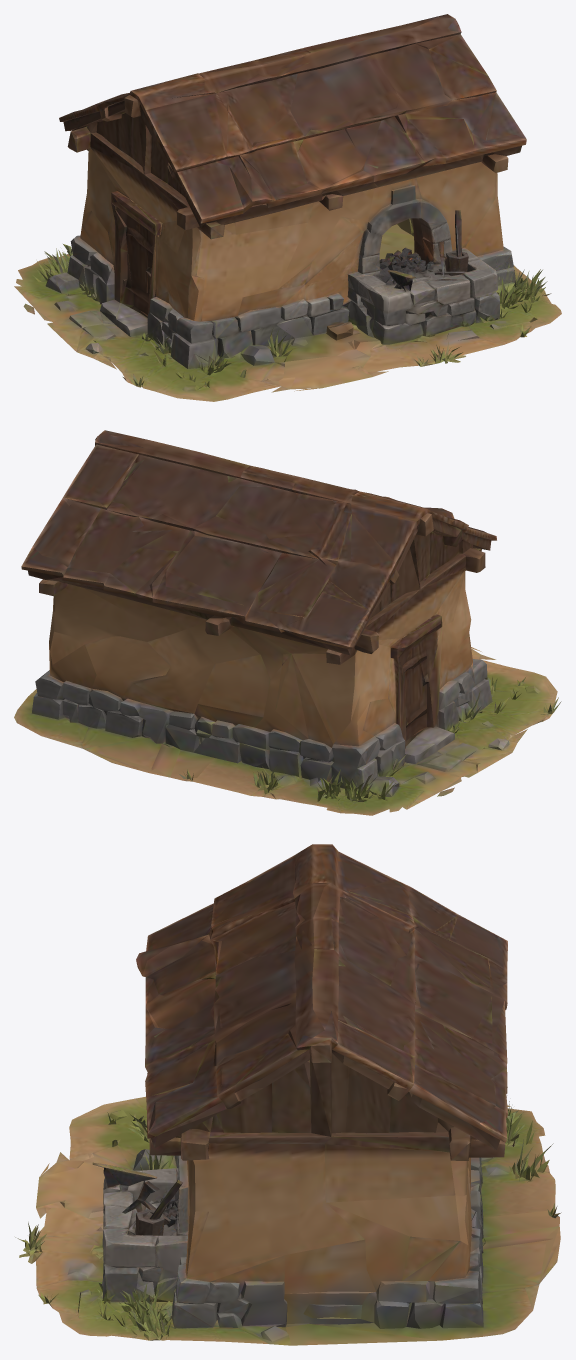
Rendered from blacksmith.glb.
The picture shows the model from 3 angles, top to bottom: view 1: azimuth 30°, elevation 25°; view 2: azimuth 150°, elevation 25°; view 3: azimuth 270°, elevation 25°; orthographic projection. The views are drawn at different scales.
Bounding box in the file's own units: 1.9 × 0.9985 × 1.7.
1 material, 1 textured.
